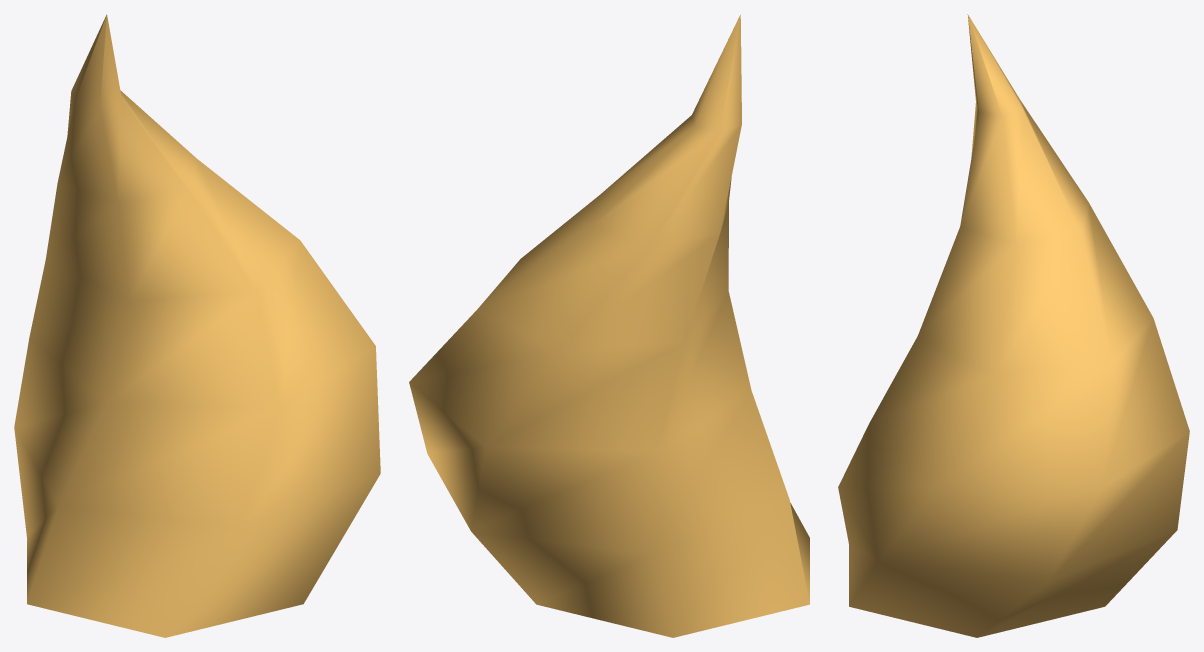
Rendered from Flame.obj.
The picture shows the model from 3 angles, left to right: view 1: azimuth 30°, elevation 25°; view 2: azimuth 150°, elevation 25°; view 3: azimuth 270°, elevation 25°; orthographic projection. The views are drawn at different scales.
Visible parts, largest first — view 1: Flame; view 2: Flame; view 3: Flame.
Boxes of the visible parts, x1,y1,x2,y2 form: Flame: (14, 14, 380, 637); Flame: (409, 14, 809, 637); Flame: (838, 14, 1189, 637).
Size of the model in its own units: 0.6335 by 1 by 0.5984.
1 material, 1 textured.
